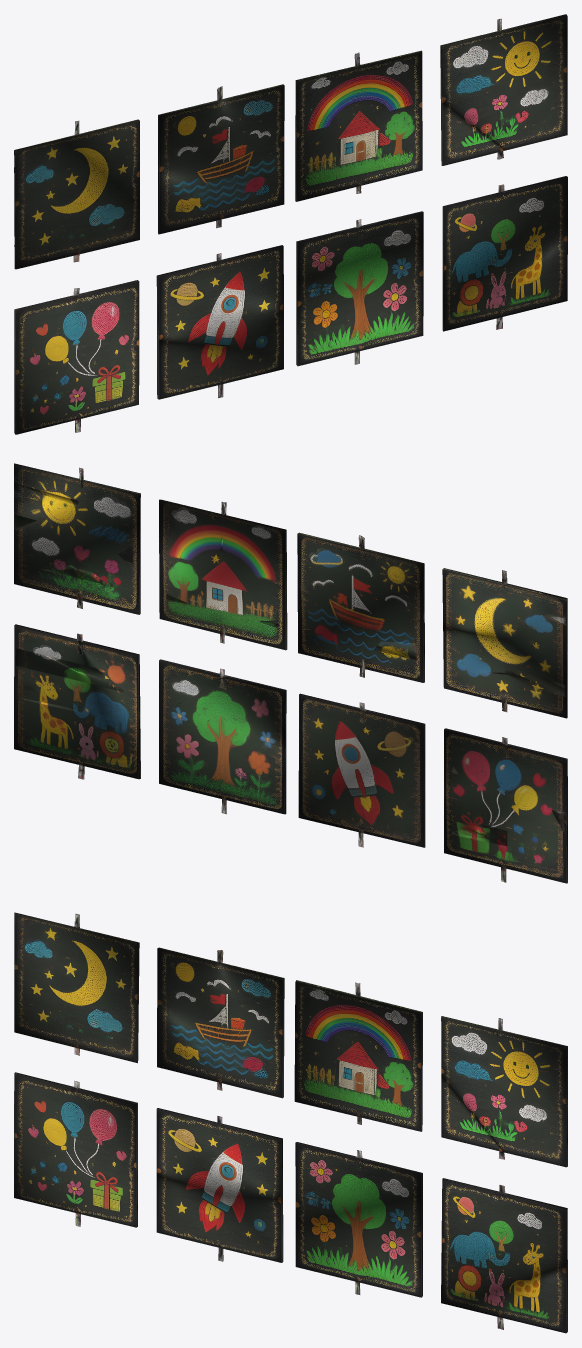
Rendered from all  kids_paintings.fbx.
The picture shows the model from 3 angles, top to bottom: view 1: azimuth 30°, elevation 25°; view 2: azimuth 150°, elevation 25°; view 3: azimuth 330°, elevation 25°; orthographic projection.
Parts seen in each view (by area): view 1: all kids_paintings; view 2: all kids_paintings; view 3: all kids_paintings.
Part boxes in pixels (x1,y1,x2,y2): all kids_paintings: (14, 14, 567, 434); all kids_paintings: (14, 463, 567, 883); all kids_paintings: (14, 912, 567, 1333).
Bounding box in the file's own units: 596 × 321 × 4.64.
Materials: 1 (1 with a texture image).
